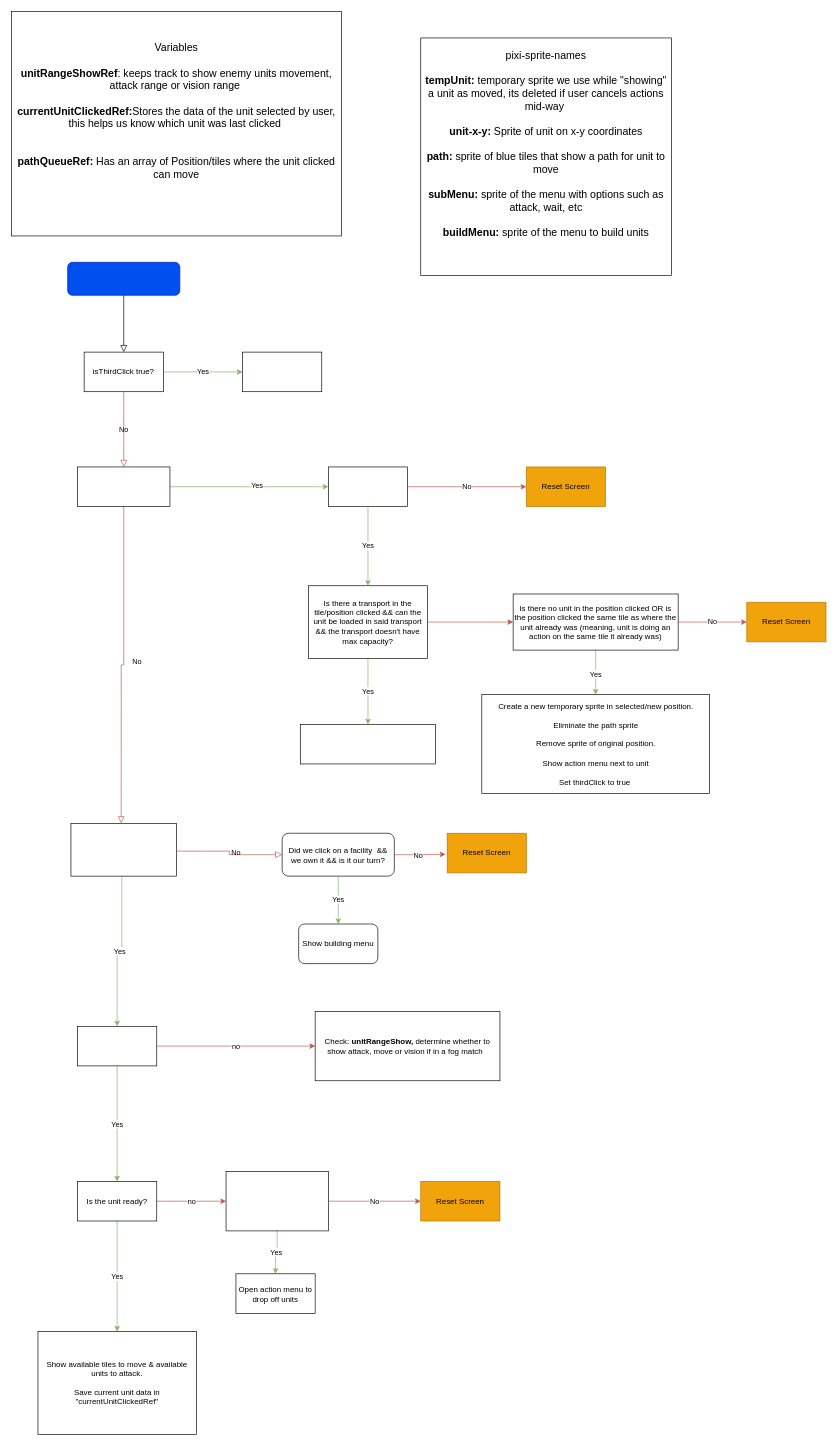
Image size: 838x1446. Some labels were removed from this diagram. Each missing label, with the centre of its shape:
Click: the point at 123,278
Did the user click on a legal path/tile to move?: the point at 368,486
Did we click on a unit?: the point at 123,849
Do we own the unit && its our turn: the point at 117,1046
is currentUnitClickedRef && pathQueueRef: the point at 123,486
Is the unit a transport && has a unit loaded: the point at 276,1201
Set third click as false, reset screen: the point at 282,371
Show action menu next to transport: the point at 368,744
